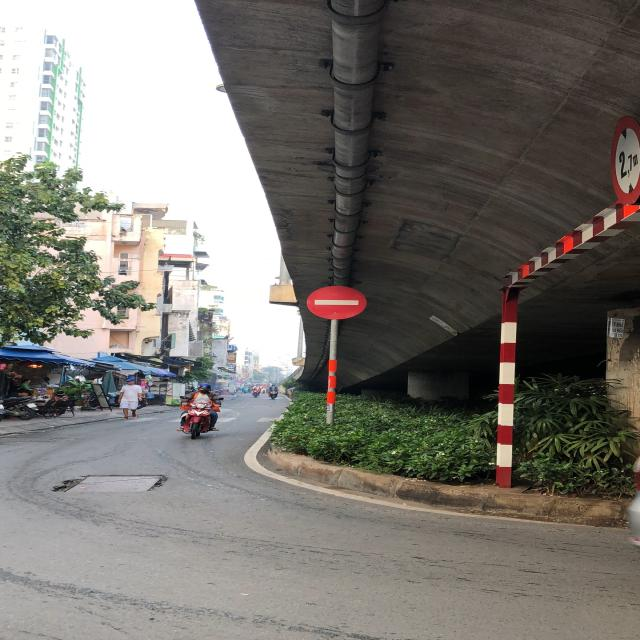Bien bao cam di nguoc chieu: (300, 282, 369, 322)
